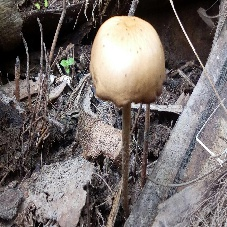mushroom: (93, 13, 158, 193)
